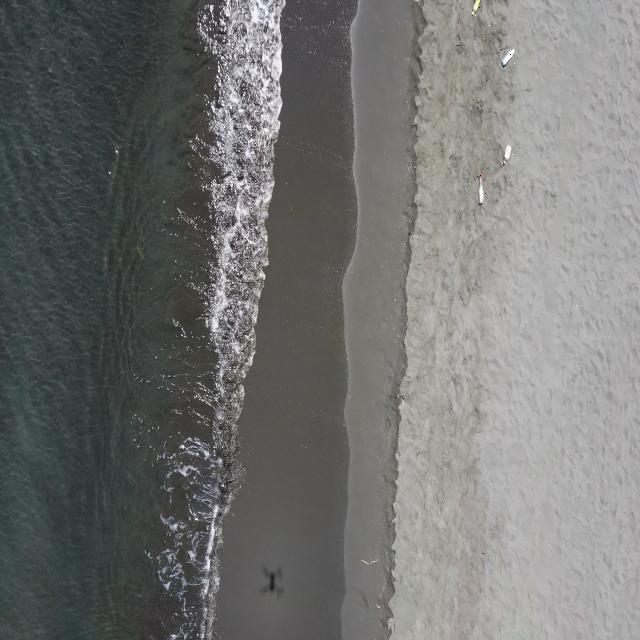Garbage: (500, 48, 513, 65), (500, 144, 510, 164), (477, 173, 482, 203), (472, 0, 480, 15)
